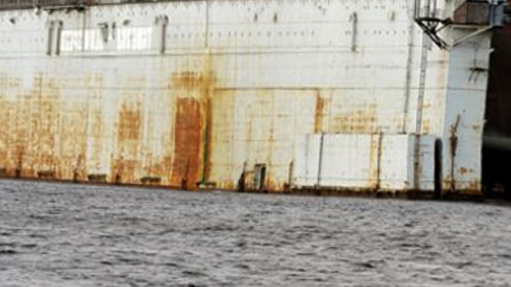rust: (1, 73, 100, 180), (165, 68, 211, 191), (111, 97, 152, 183), (313, 90, 386, 131), (248, 88, 276, 163), (367, 137, 388, 192), (446, 111, 485, 134), (456, 162, 482, 192)
